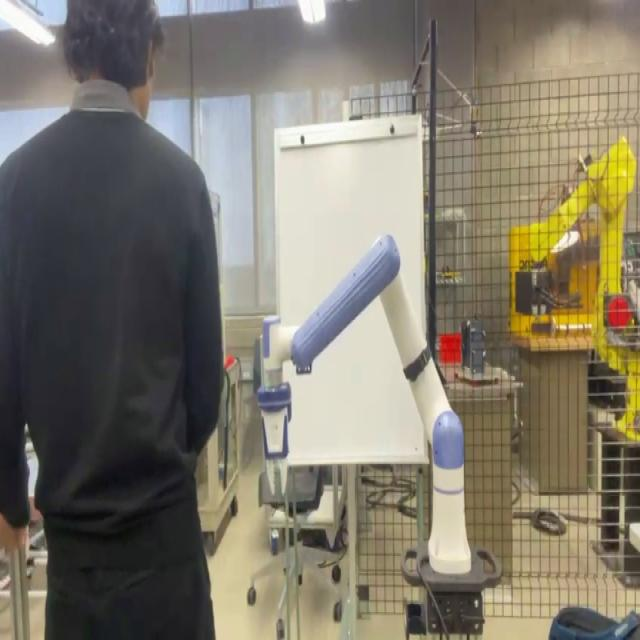robot: (248, 231, 503, 637)
